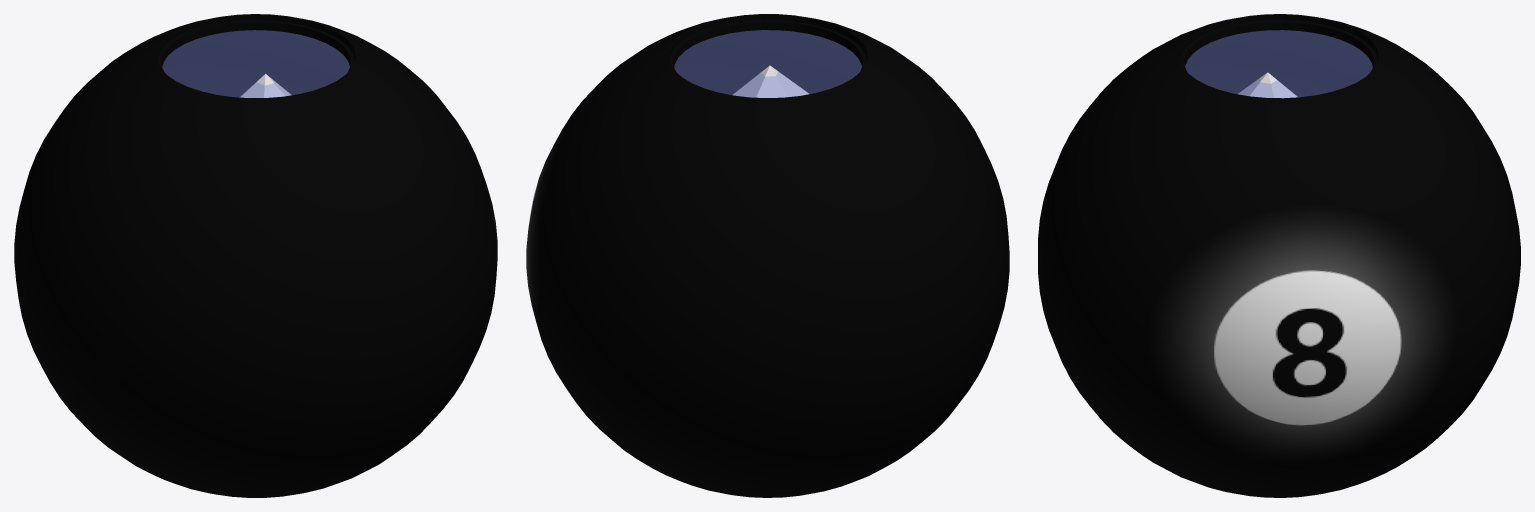
Rendered from Ball8v3.glb.
The picture shows the model from 3 angles, left to right: view 1: azimuth 30°, elevation 25°; view 2: azimuth 150°, elevation 25°; view 3: azimuth 270°, elevation 25°; orthographic projection.
Parts seen in each view (by area): view 1: Sphere, Cylinder, Cone; view 2: Sphere, Cylinder, Cone; view 3: Sphere, Cylinder, Cone.
Boxes of the visible parts, bbox=[...] form: Sphere: bbox=[14, 14, 497, 497]; Cylinder: bbox=[163, 30, 349, 97]; Cone: bbox=[239, 73, 291, 97]; Sphere: bbox=[526, 14, 1009, 497]; Cylinder: bbox=[675, 30, 861, 97]; Cone: bbox=[733, 65, 808, 97]; Sphere: bbox=[1038, 14, 1520, 497]; Cylinder: bbox=[1186, 30, 1371, 97]; Cone: bbox=[1238, 72, 1297, 98].
Size of the model in its own units: 2 by 1.91 by 1.99.
3 materials, 1 textured.
